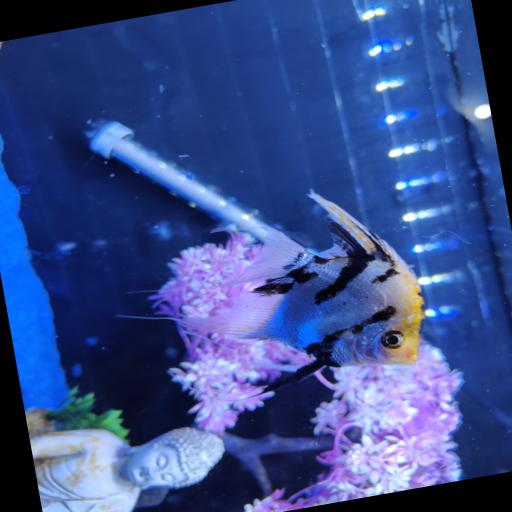Fish: (178, 190, 423, 391)
